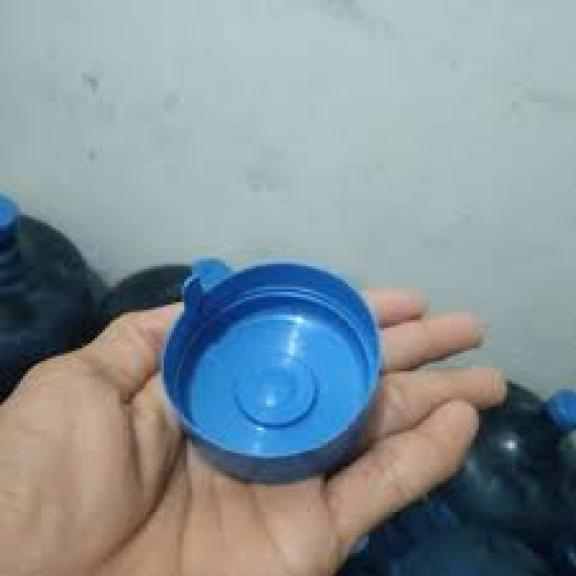Plastik: (161, 261, 387, 484)
